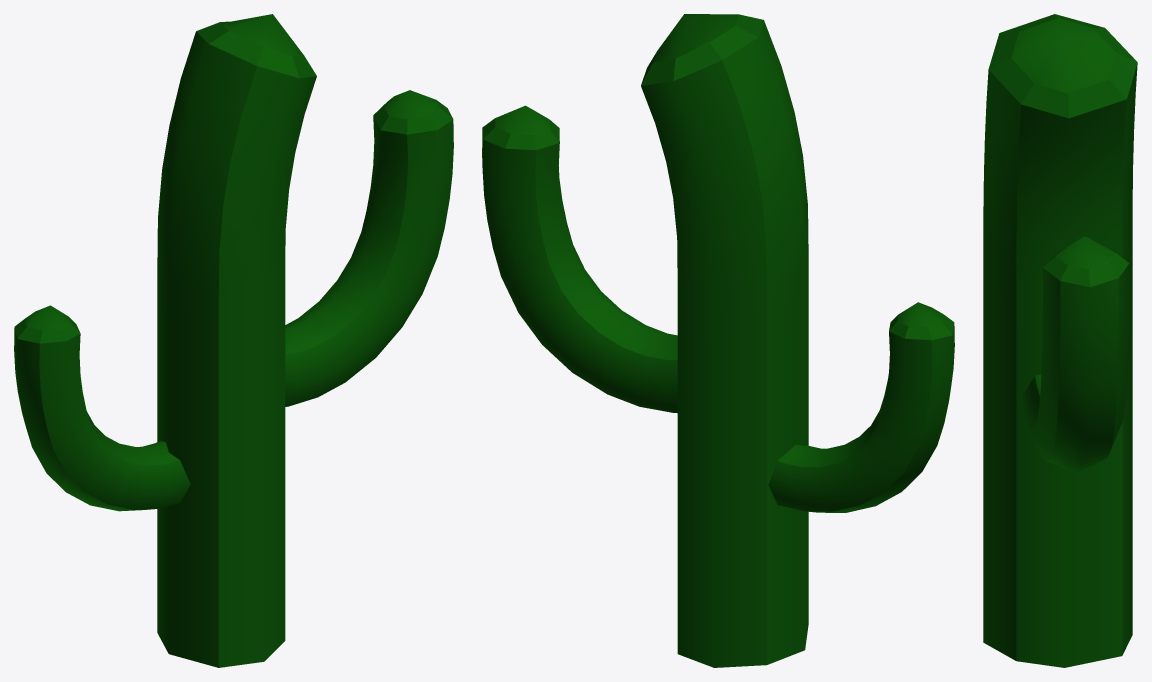
The model's file is Cactus.fbx.
3 renders of one model, left to right at view 1: azimuth 30°, elevation 25°; view 2: azimuth 150°, elevation 25°; view 3: azimuth 270°, elevation 25°, orthographic. The views are drawn at different scales.
Visible parts, largest first — view 1: polySurface65; view 2: polySurface65; view 3: polySurface65.
Boxes of the visible parts, left/top/right/bottom form: polySurface65: left=14, top=14, right=453, bottom=667; polySurface65: left=482, top=14, right=954, bottom=667; polySurface65: left=983, top=14, right=1137, bottom=667.
Bounding box in the file's own units: 3.48 × 4.5 × 1.
